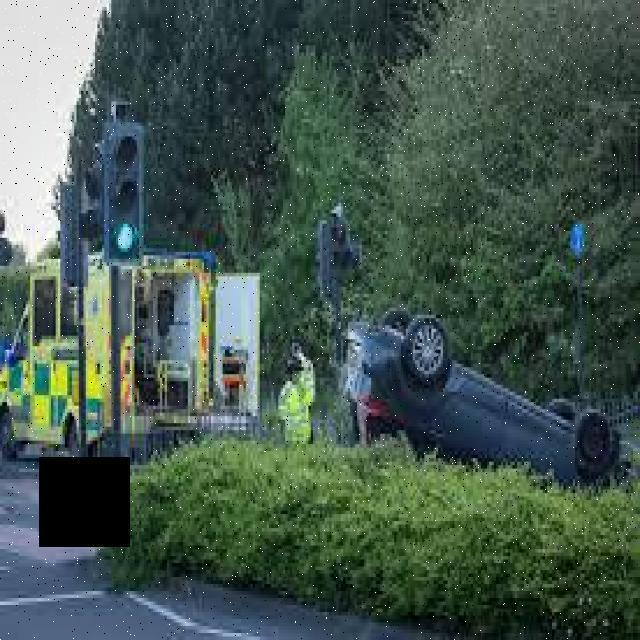normal: (15, 90, 272, 518)
single accident: (302, 275, 640, 558)
